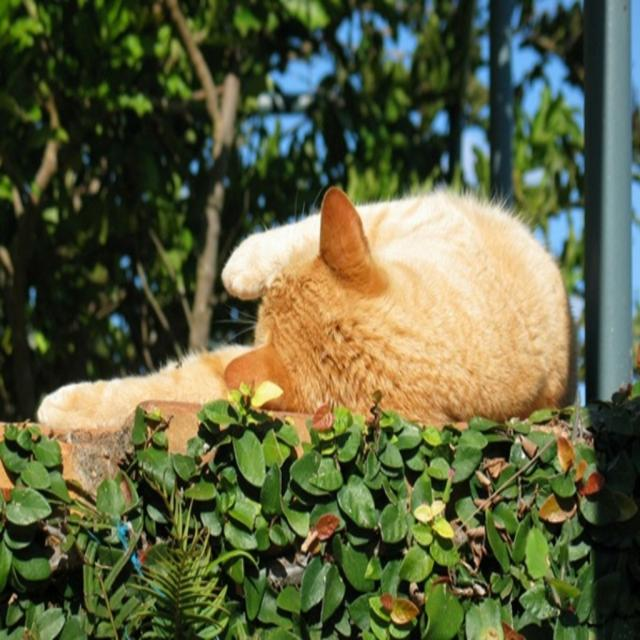Cat: (34, 182, 585, 429)
